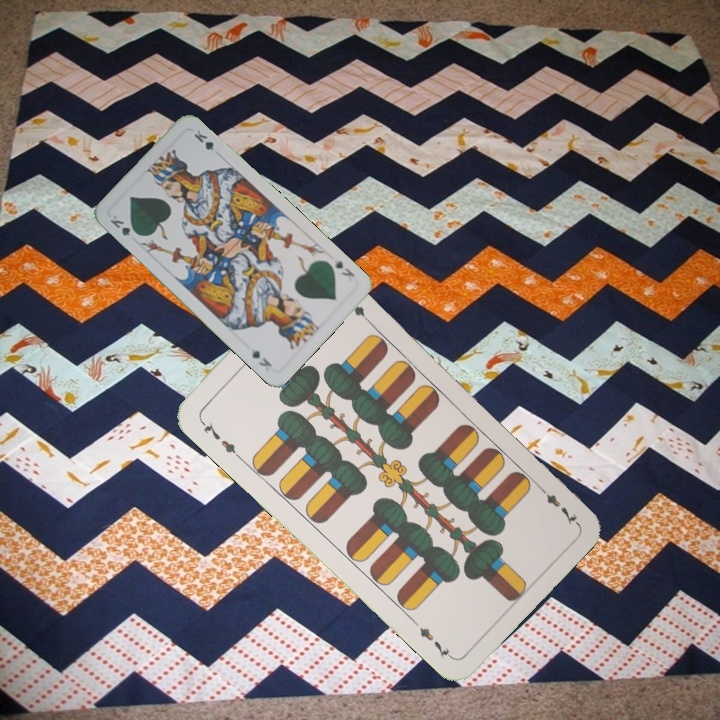E7: (196, 416, 243, 461), (534, 482, 580, 527)
GK: (106, 211, 142, 240), (331, 256, 357, 279)
